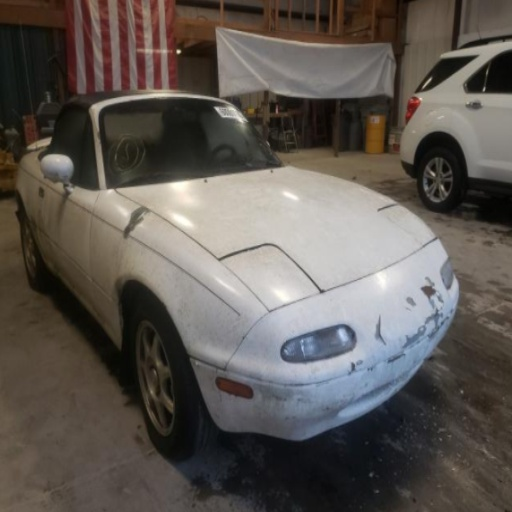rust: (188, 358, 254, 402), (115, 278, 137, 330)
scratch: (42, 170, 69, 182)
